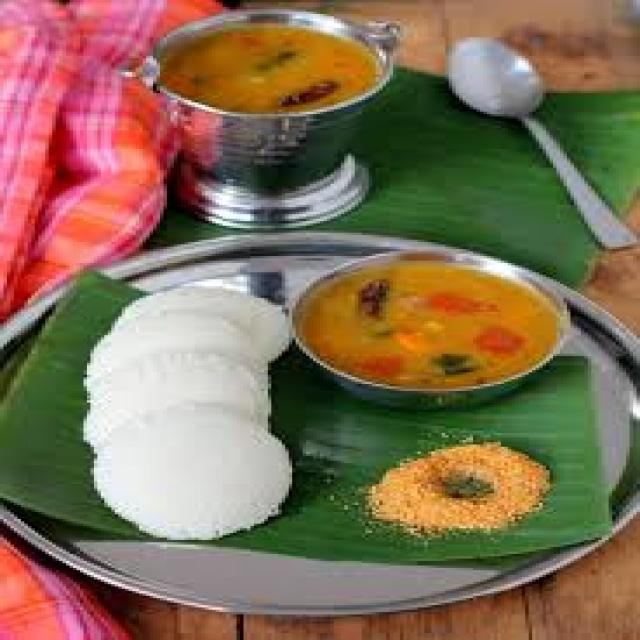IDLI: (83, 289, 289, 538)
